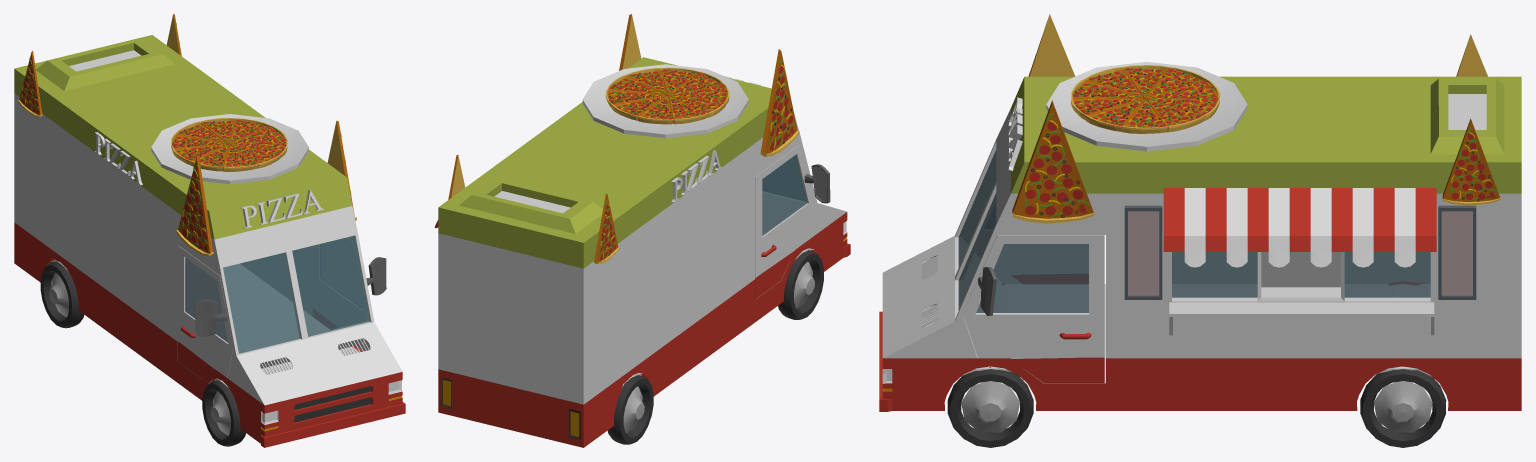
The model's file is Pizza Truck.fbx.
3 renders of one model, left to right at view 1: azimuth 30°, elevation 25°; view 2: azimuth 150°, elevation 25°; view 3: azimuth 270°, elevation 25°, orthographic. The views are drawn at different scales.
Visible parts, largest first — view 1: Pizza_Truck; view 2: Pizza_Truck; view 3: Pizza_Truck.
Part boxes in pixels (x1=…): Pizza_Truck: x1=14, y1=14, x2=405, y2=447; Pizza_Truck: x1=434, y1=14, x2=850, y2=447; Pizza_Truck: x1=879, y1=14, x2=1521, y2=447.
Bounding box in the file's own units: 2.99 × 3.77 × 6.31.
